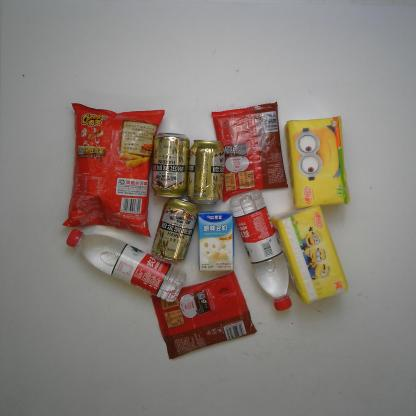Alcohol: (150, 197, 201, 265), (149, 131, 190, 200), (186, 139, 226, 206)
Dessert: (151, 271, 257, 361), (209, 102, 291, 202)
Drink: (65, 228, 186, 300), (231, 190, 291, 312)
Milk: (196, 212, 238, 272)
Puffed Food: (62, 102, 168, 238)
Tissue: (274, 204, 348, 307), (284, 116, 352, 210)
